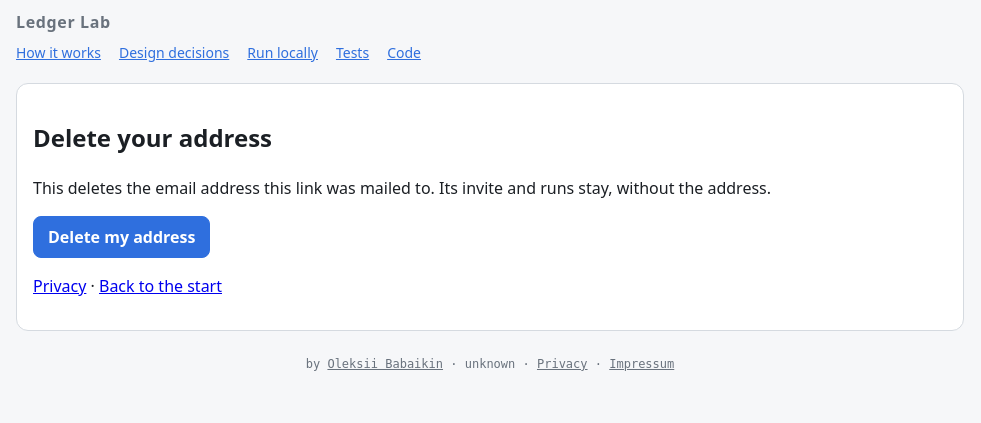
Test: the delete page › names a 404 with another code in its own words
Click the button "Delete my address".
click(122, 237)  # box [33, 216, 210, 258]
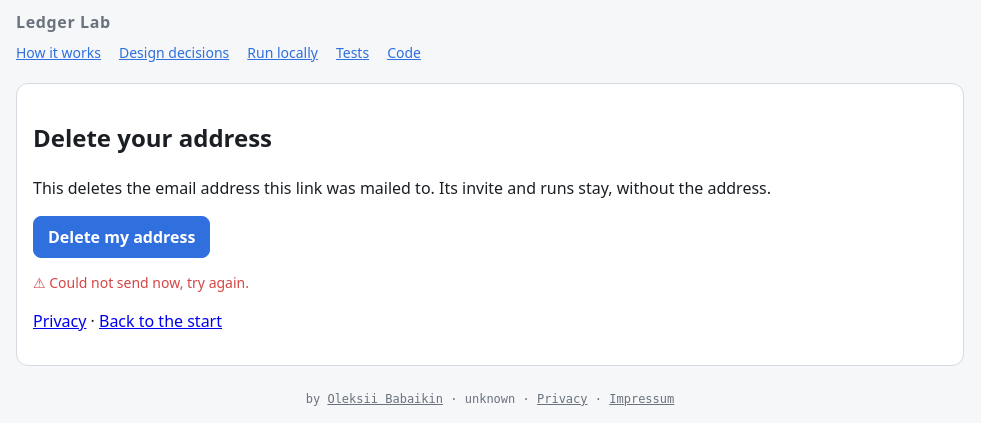
Check: the text "Could not send now, try again." is shown, box [49, 273, 249, 292]
